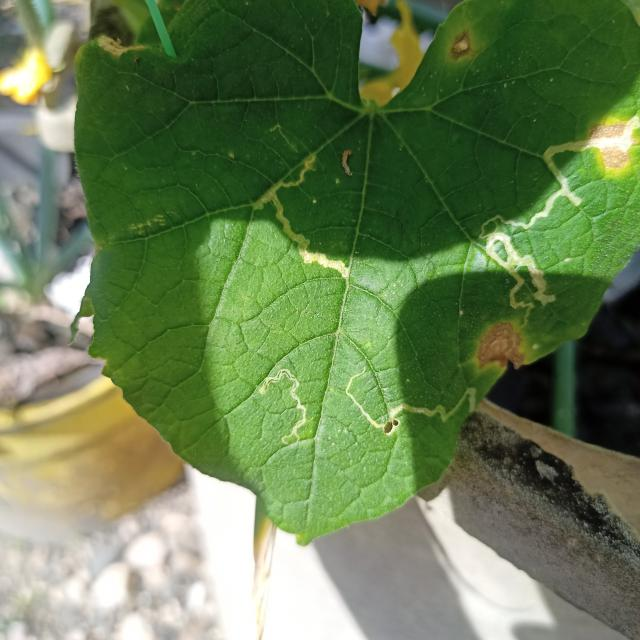disease_cucumber: (470, 317, 532, 382), (584, 113, 637, 175), (446, 27, 476, 64)
